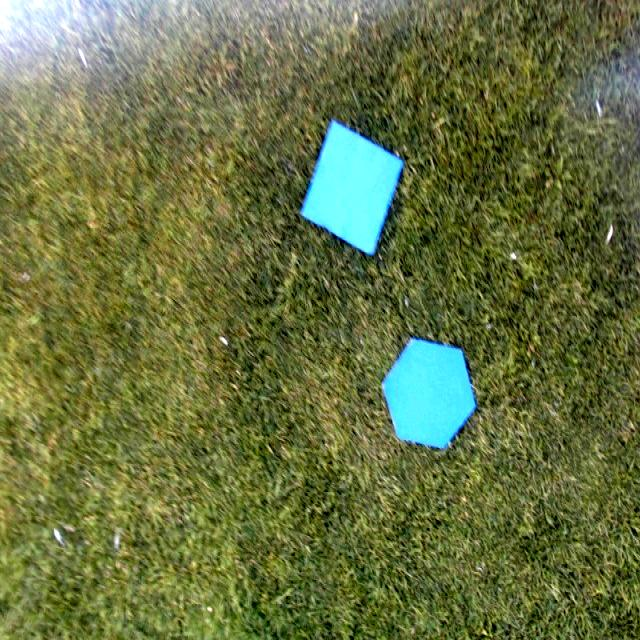blue_hexagon: (301, 122, 406, 259), (381, 335, 477, 453)
